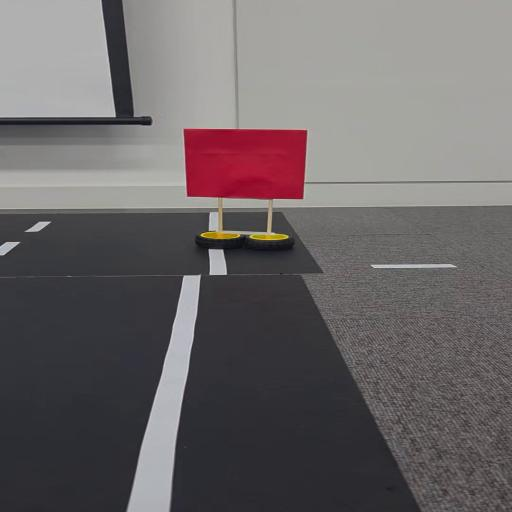Sign_A: (174, 122, 318, 262)
